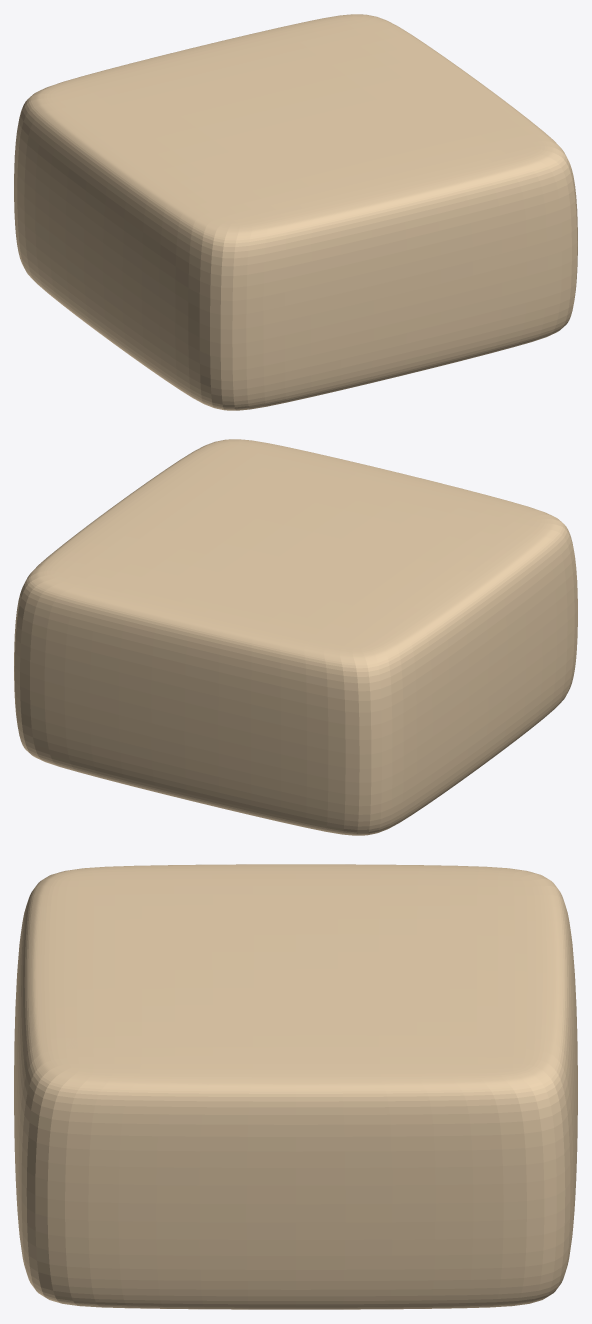
The model's file is CakeBigLayerCream.glb.
3 views of the same model, one above another, from view 1: azimuth 30°, elevation 25°; view 2: azimuth 150°, elevation 25°; view 3: azimuth 270°, elevation 25° (orthographic). The views are drawn at different scales.
Parts seen in each view (by area): view 1: Cube.028; view 2: Cube.028; view 3: Cube.028.
Boxes of the visible parts, x1,y1,x2,y2 form: Cube.028: [14, 14, 577, 410]; Cube.028: [14, 439, 577, 835]; Cube.028: [14, 864, 577, 1309].
Size of the model in its own units: 1.99 by 0.9083 by 1.99.
